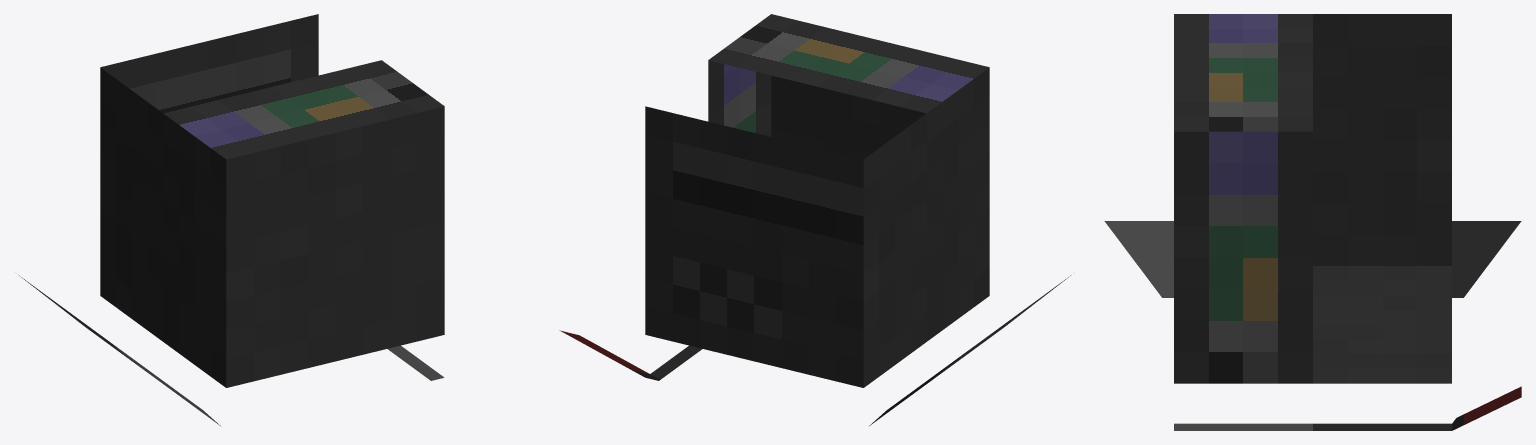
File: prank_head_mm.obj
3 renders of one model, left to right at view 1: azimuth 30°, elevation 25°; view 2: azimuth 150°, elevation 25°; view 3: azimuth 270°, elevation 25°, orthographic. The views are drawn at different scales.
Visible parts, largest first — view 1: head, layer_spin1_translucent; view 2: head, layer_spin1_translucent; view 3: head, layer_spin1_translucent.
Boxes of the visible parts, box(x1,y1,x2,y2) form: head: box(100, 14, 444, 387); layer_spin1_translucent: box(19, 275, 444, 425); head: box(645, 14, 989, 387); layer_spin1_translucent: box(559, 275, 1070, 425); head: box(1174, 14, 1451, 383); layer_spin1_translucent: box(1104, 221, 1521, 430).
Size of the model in its own units: 96 by 76 by 96.
